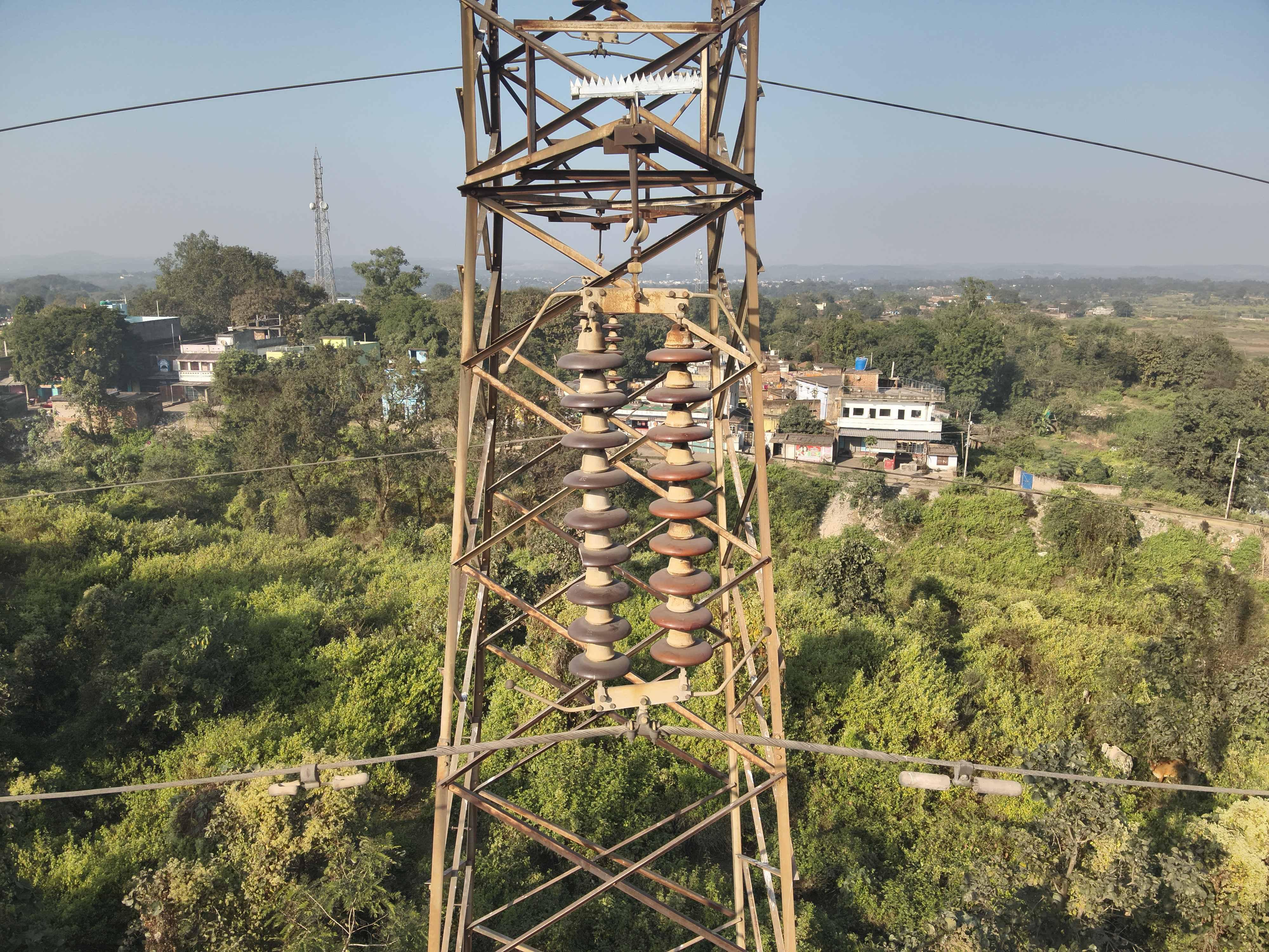broken_insulator: (572, 531, 634, 573)
